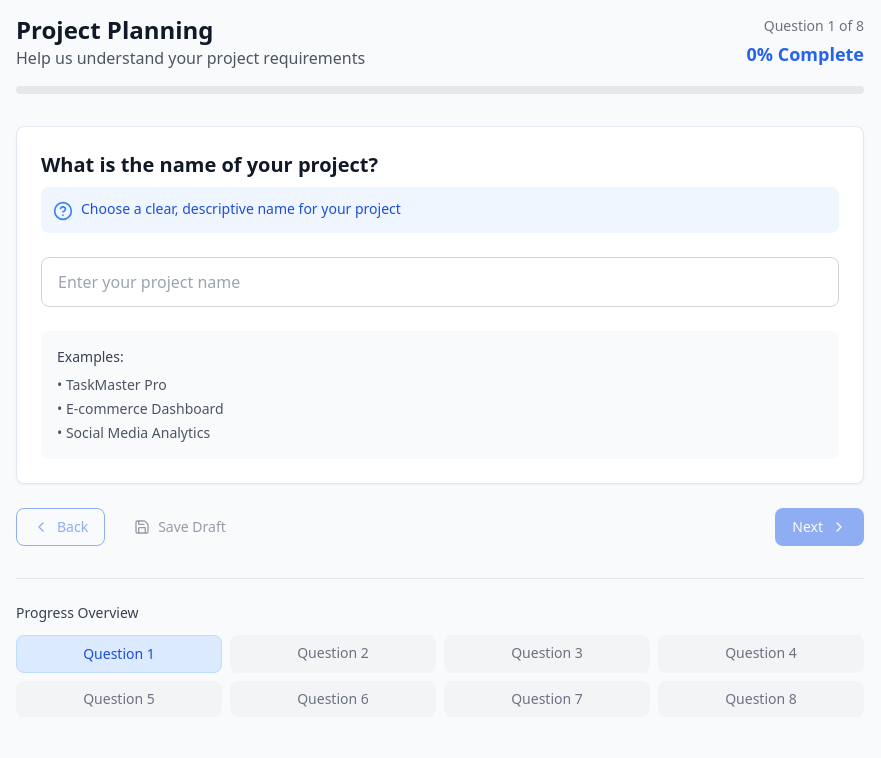
PlanningFlow › Form Submission › should navigate to last question and show submit button
This screenshot has width=881, height=758.
Fill first question
Type "Test Project" into the field with placeholder "Enter your project name" at x=440, y=282, box [41, 257, 839, 307]
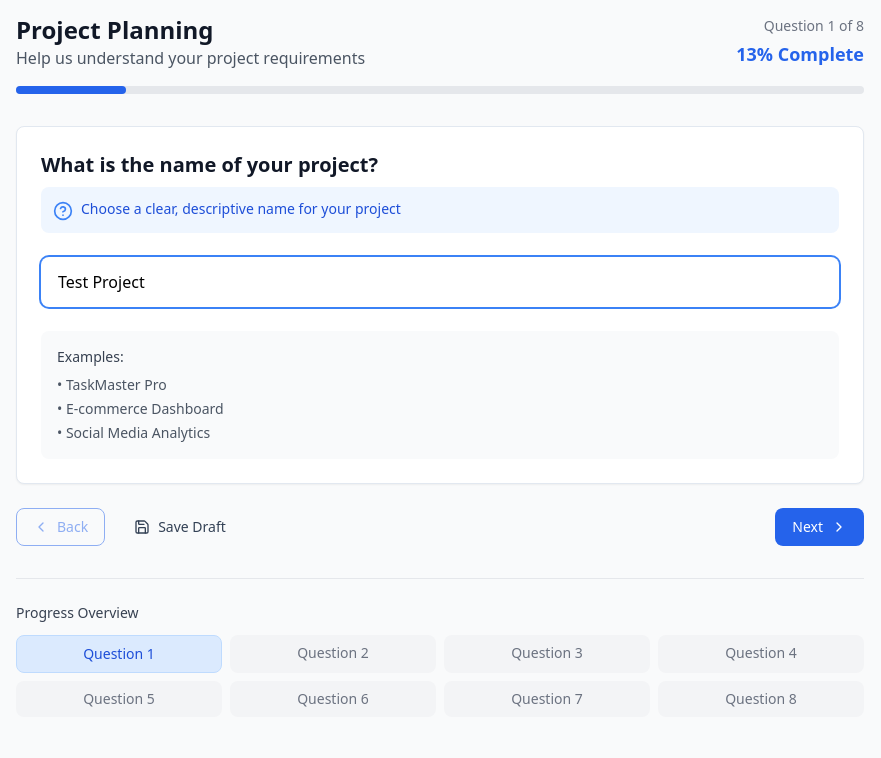
Click the button "Next" at x=820, y=527, box [775, 508, 864, 546]
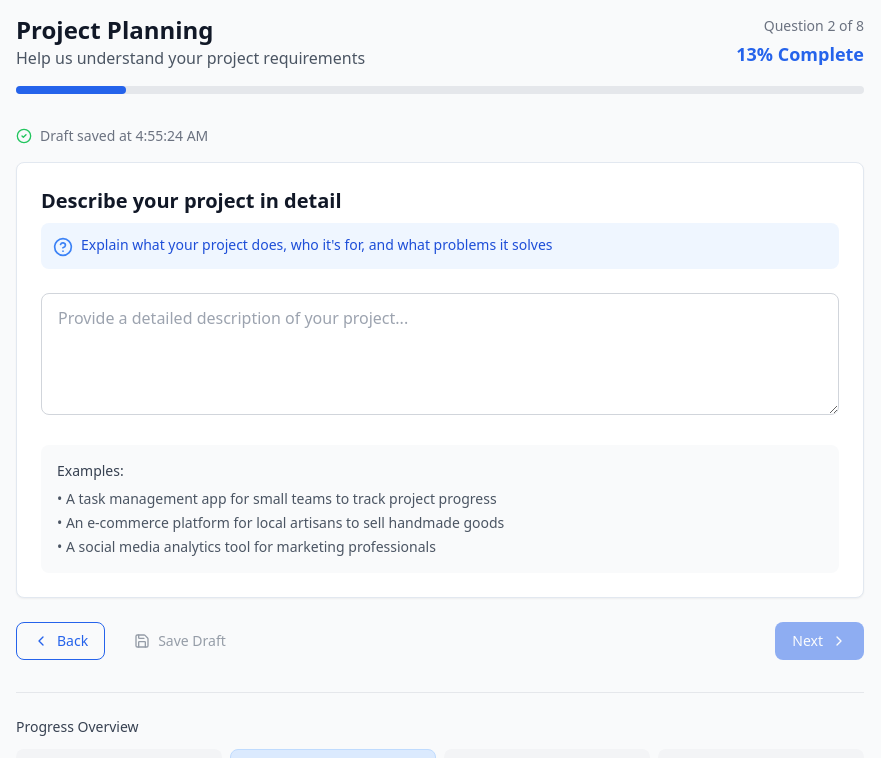
Check: the text "Question 2 of 8" is shown, box [764, 16, 864, 35]
